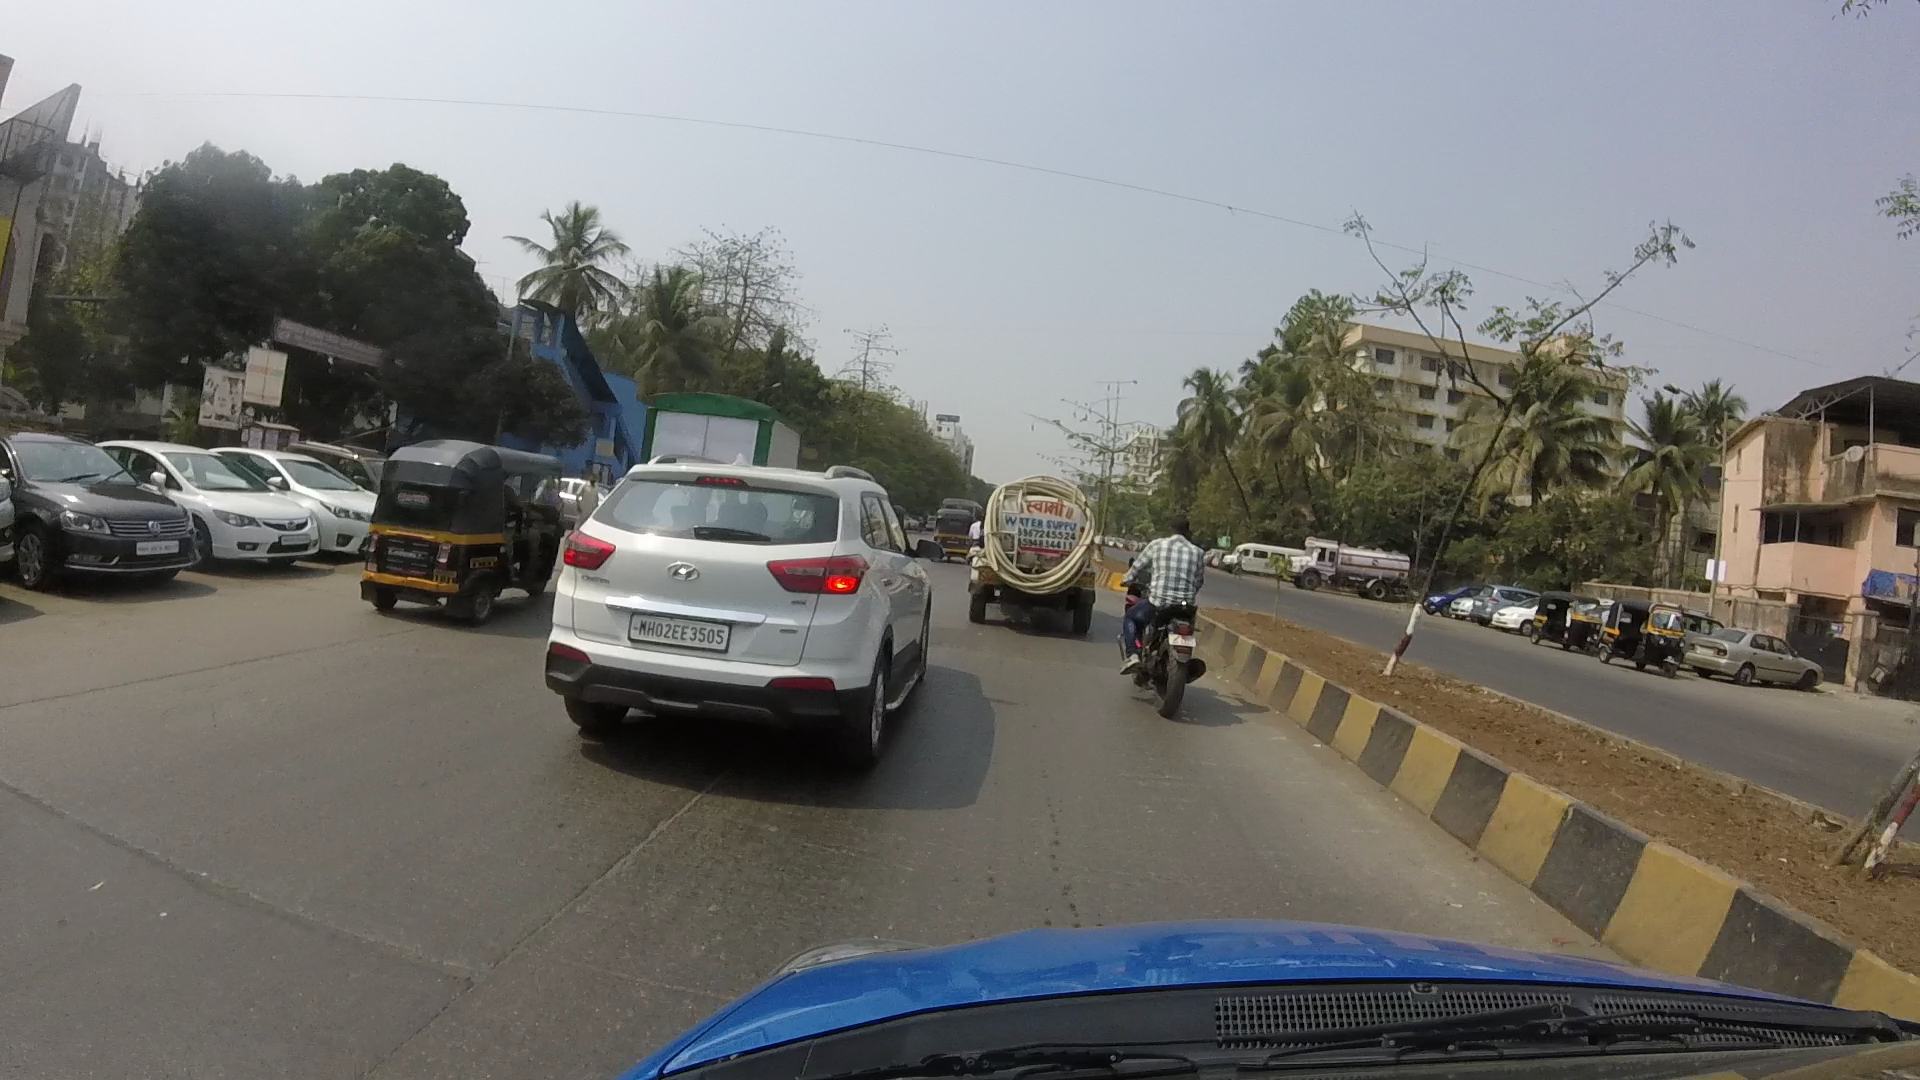bike/scooter: (1129, 518, 1215, 702)
car: (554, 443, 931, 752), (1, 409, 190, 591), (117, 418, 316, 562), (229, 425, 390, 543)
rickshaw: (365, 425, 567, 621), (930, 496, 975, 564)
truck: (967, 459, 1106, 665), (1284, 534, 1411, 596)
